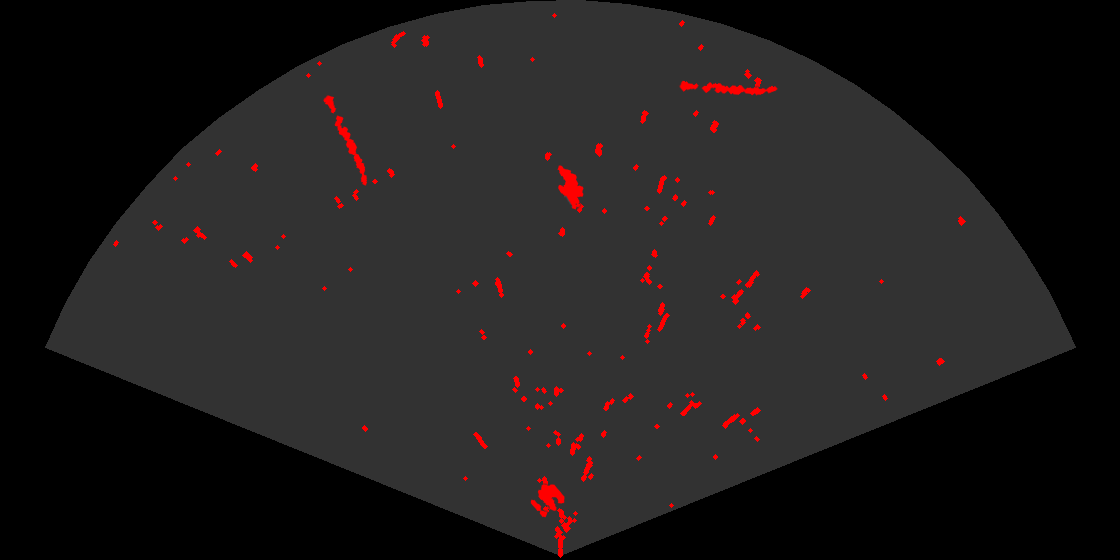AUV: (556, 164, 585, 211)
ball: (529, 483, 566, 519)
chain: (322, 93, 369, 187), (677, 79, 779, 97)
